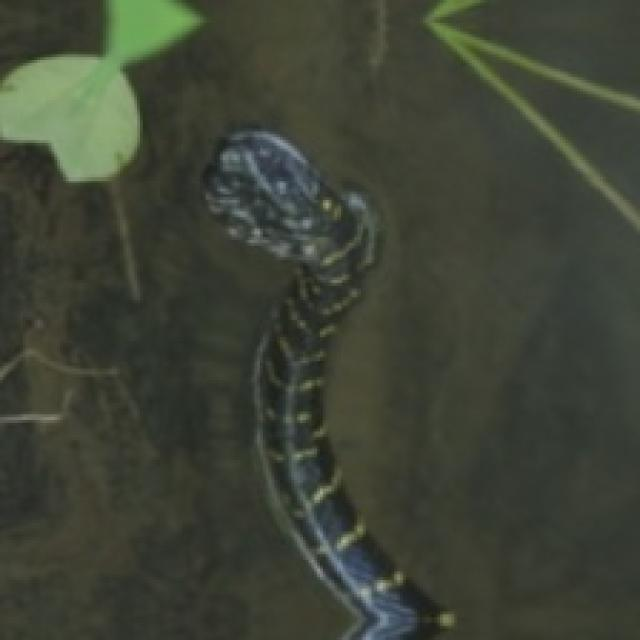mangrove cat snake: (206, 129, 451, 637)
